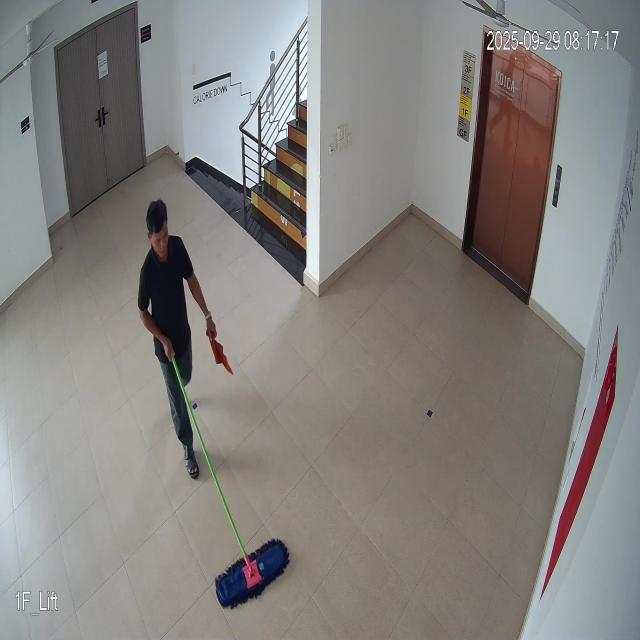face: (141, 197, 175, 265)
